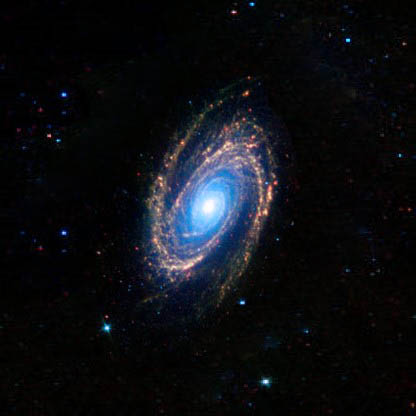Messier 81: (129, 65, 286, 333)
